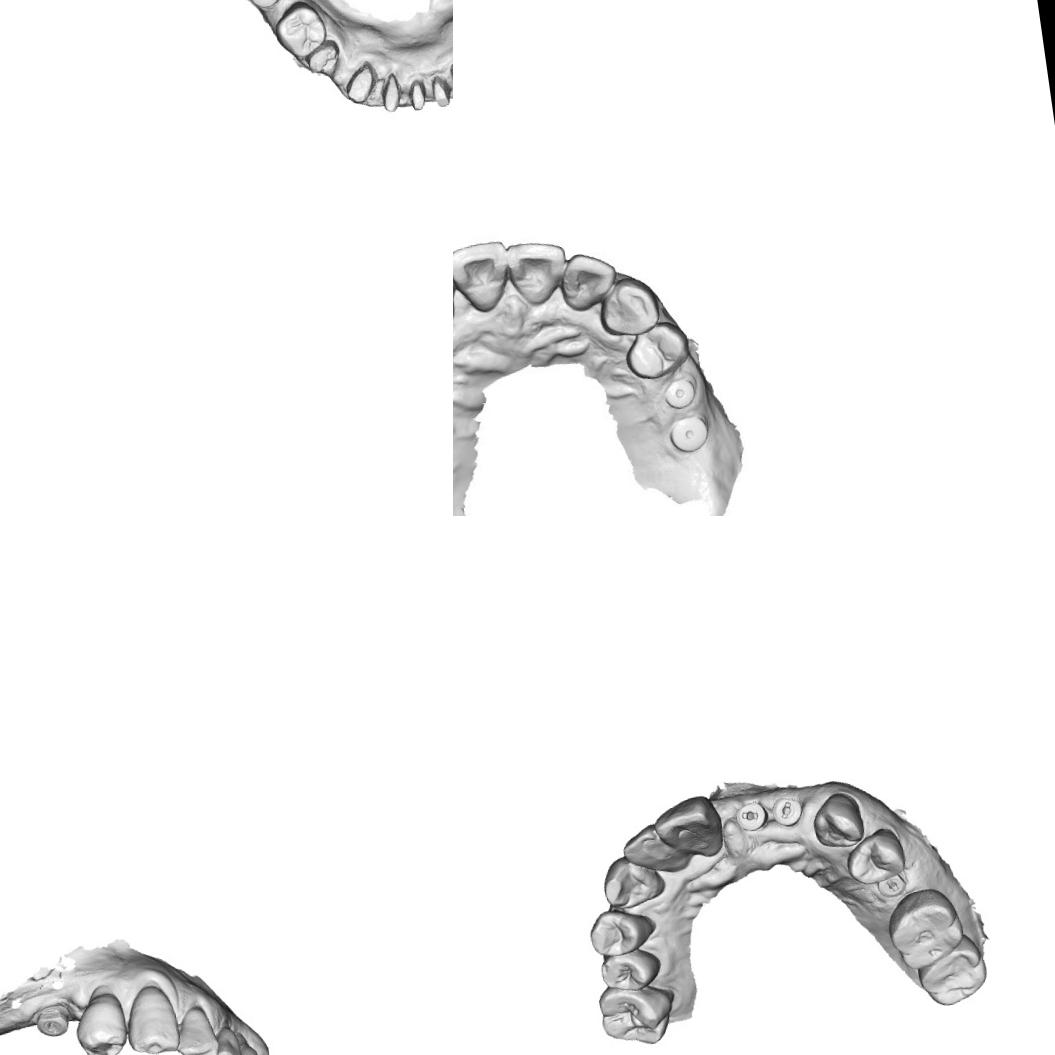canine: (592, 272, 662, 342), (119, 980, 184, 1055), (599, 850, 668, 912), (808, 789, 866, 851)
crown: (341, 62, 378, 106), (377, 70, 404, 114), (426, 72, 453, 109), (405, 77, 429, 113)
implant: (664, 410, 711, 460), (660, 374, 700, 413), (245, 0, 284, 9)
implant_minus: (30, 1001, 70, 1044), (769, 793, 805, 829), (732, 799, 770, 833), (875, 871, 908, 900)
incisor: (650, 792, 727, 864), (619, 820, 689, 880), (506, 244, 568, 308), (453, 244, 508, 307), (562, 254, 614, 310), (168, 1003, 222, 1055), (207, 1029, 247, 1055), (230, 1040, 268, 1055)
molar: (882, 884, 967, 975), (594, 975, 682, 1052), (912, 931, 991, 1009)
premolar: (618, 316, 694, 384), (71, 987, 132, 1055), (586, 903, 658, 960), (842, 826, 908, 888), (270, 0, 330, 60), (597, 945, 664, 995)
